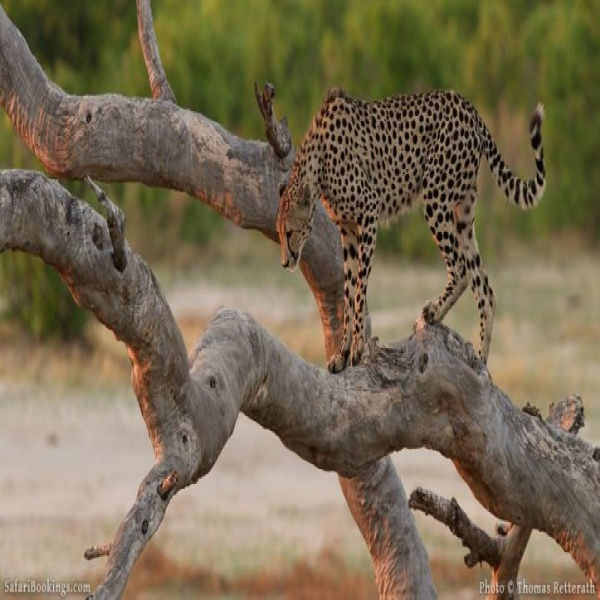Cheetah: (270, 83, 552, 373)
